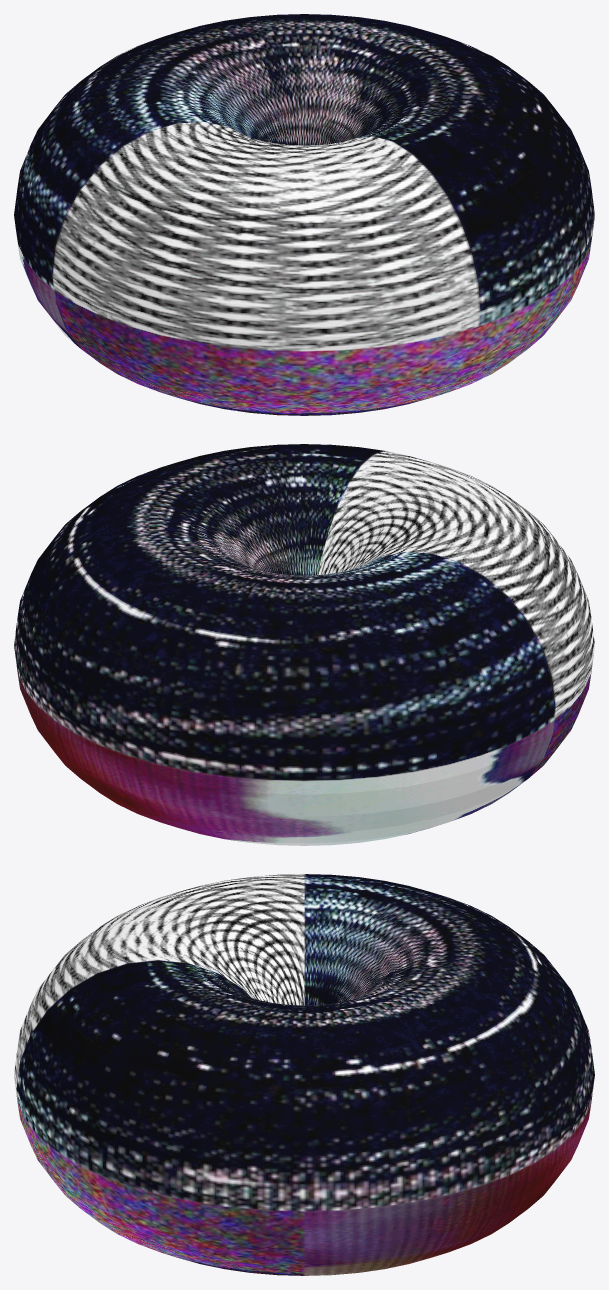
3 renders of one model, top to bottom at view 1: azimuth 30°, elevation 25°; view 2: azimuth 150°, elevation 25°; view 3: azimuth 270°, elevation 25°, orthographic.
Parts seen in each view (by area): view 1: Torus; view 2: Torus; view 3: Torus.
Part boxes in pixels (box(x1,y1,x2,y2)): Torus: box(14, 14, 594, 415); Torus: box(14, 444, 594, 845); Torus: box(14, 874, 594, 1275).
Size of what is drawn, in the model's own units: 31.51 by 14.67 by 31.51.
Materials: 1 (1 with a texture image).
